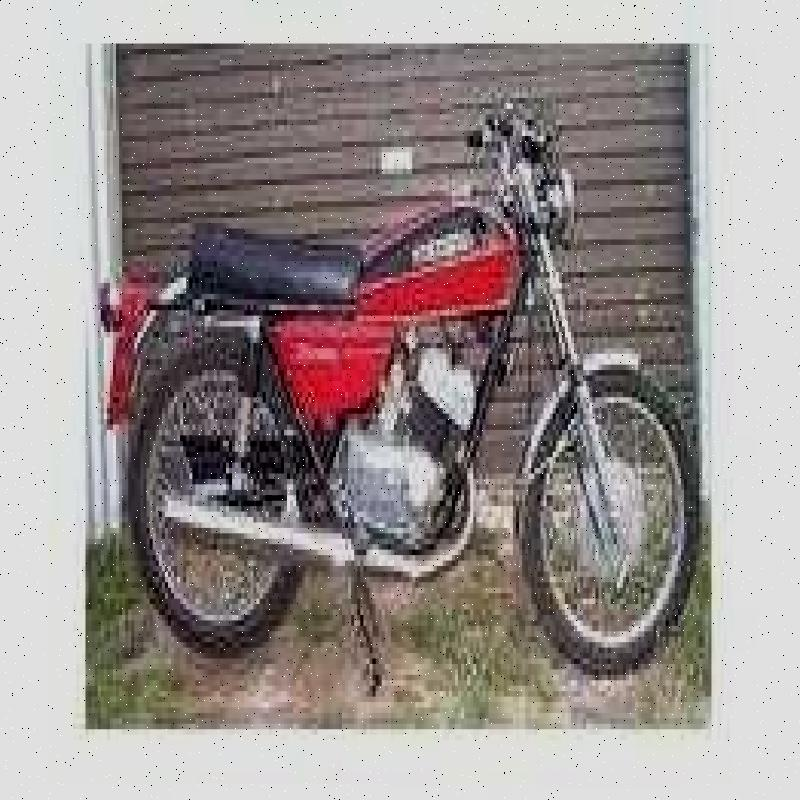bike: (91, 55, 705, 691)
